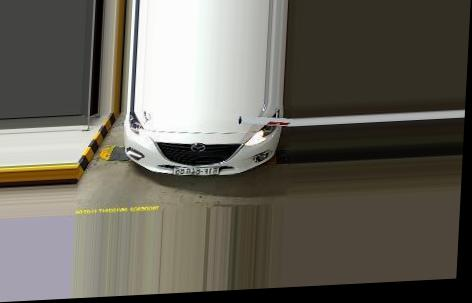License_Plate: (170, 164, 222, 179)
